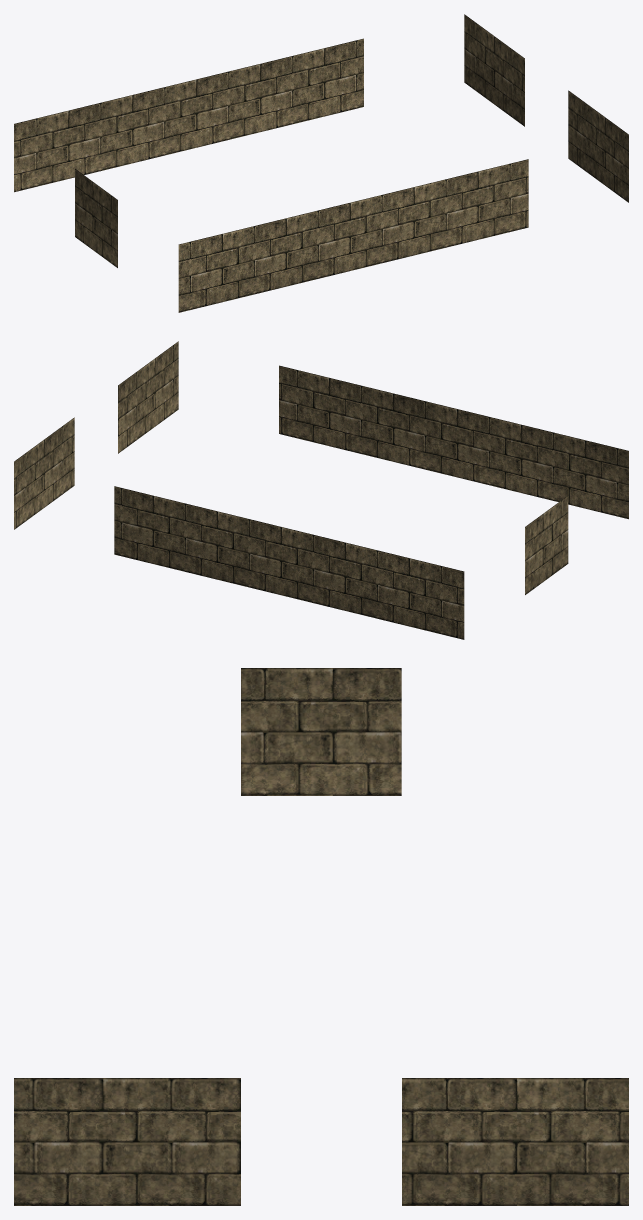
The model's file is OVERHILL_A_01_LINE190.fbx.
The picture shows the model from 3 angles, top to bottom: view 1: azimuth 30°, elevation 25°; view 2: azimuth 150°, elevation 25°; view 3: azimuth 270°, elevation 25°; orthographic projection. The views are drawn at different scales.
Visible parts, largest first — view 1: OVERHILL_A_01_LINE190; view 2: OVERHILL_A_01_LINE190; view 3: OVERHILL_A_01_LINE190.
Boxes of the visible parts, x1,y1,x2,y2 form: OVERHILL_A_01_LINE190: (14,14,628,312); OVERHILL_A_01_LINE190: (14,341,628,639); OVERHILL_A_01_LINE190: (14,668,628,1205).
Bounding box in the file's own units: 236624 × 34378 × 149972.
Materials: 1 (1 with a texture image).
